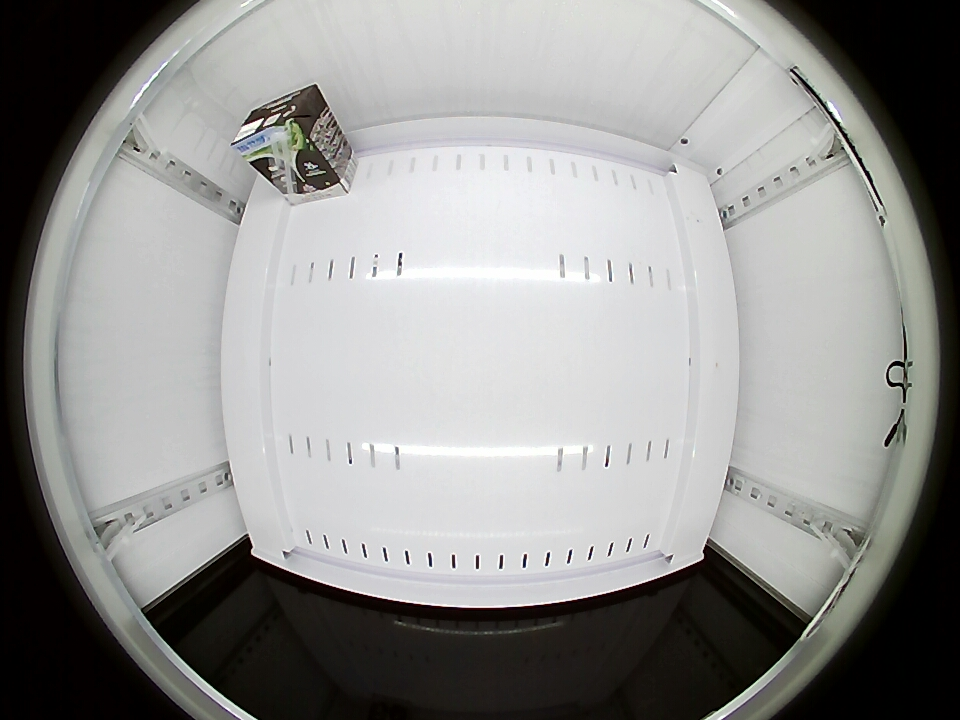weitanai2: (231, 84, 328, 165)
